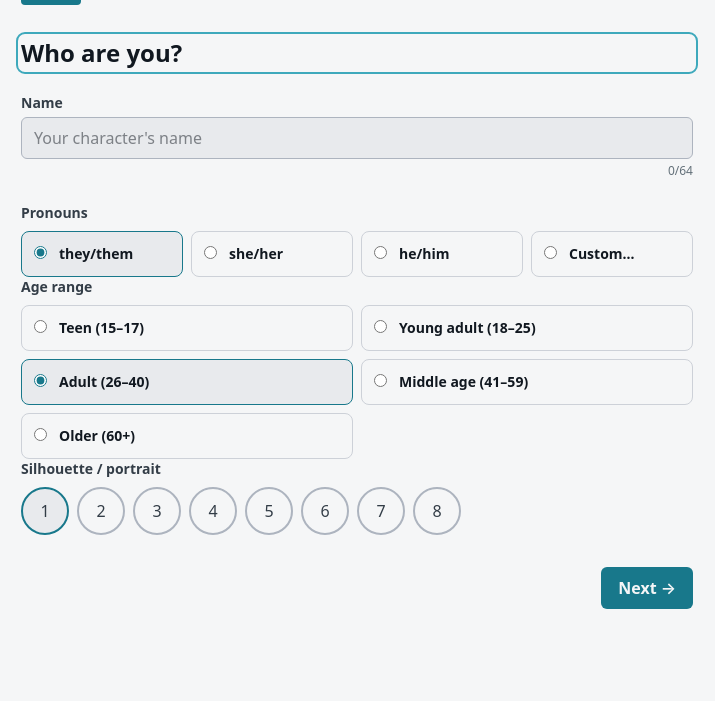
CharacterCreation – occupation step › shows validation error if Next is clicked without selecting occupation
Type "Sam" into the field labelled "Name".
click(357, 138); type("Sam")  # box [21,117,693,159]
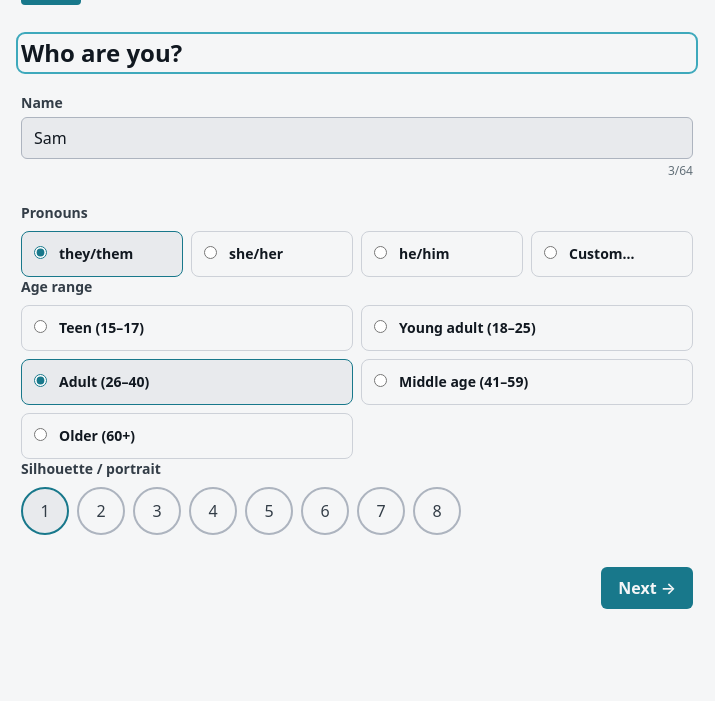
Click the button "Next →".
click(647, 588)  # box [601,567,693,609]
(page scrolled)
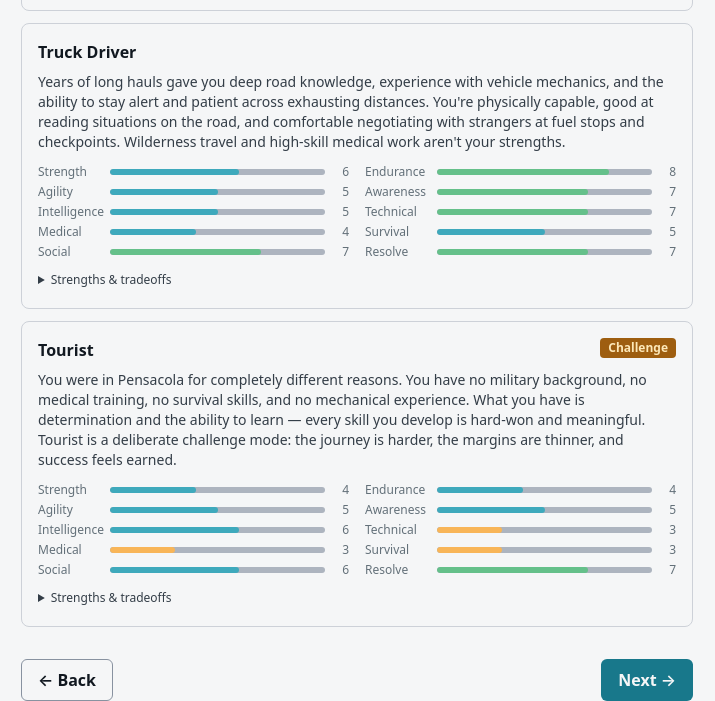
Click the button "Next →".
click(647, 680)  # box [601,659,693,700]
(page scrolled)
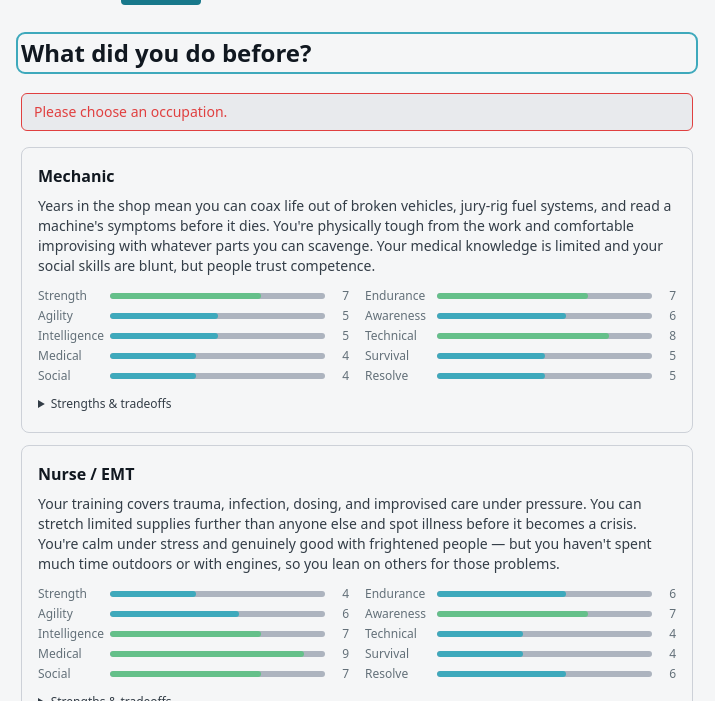
Result: the message "Please choose an occupation." is shown at [21,93,693,131]
